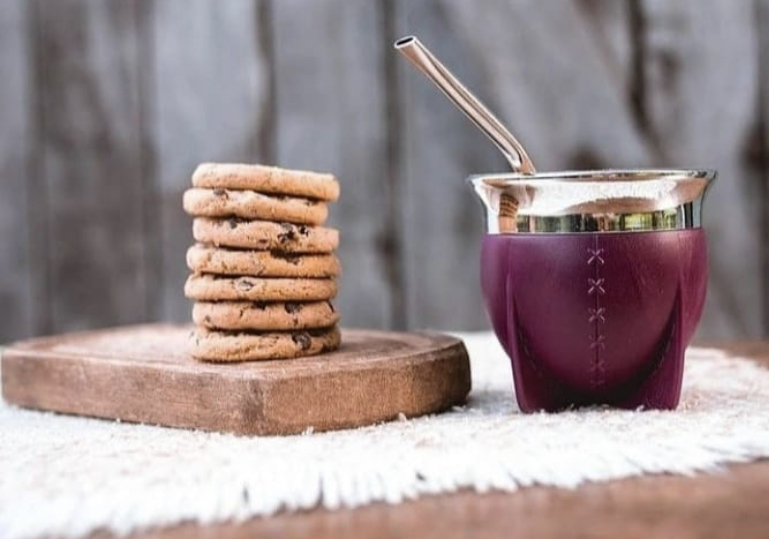calabaza: (462, 164, 720, 415)
mate: (388, 33, 718, 417)
